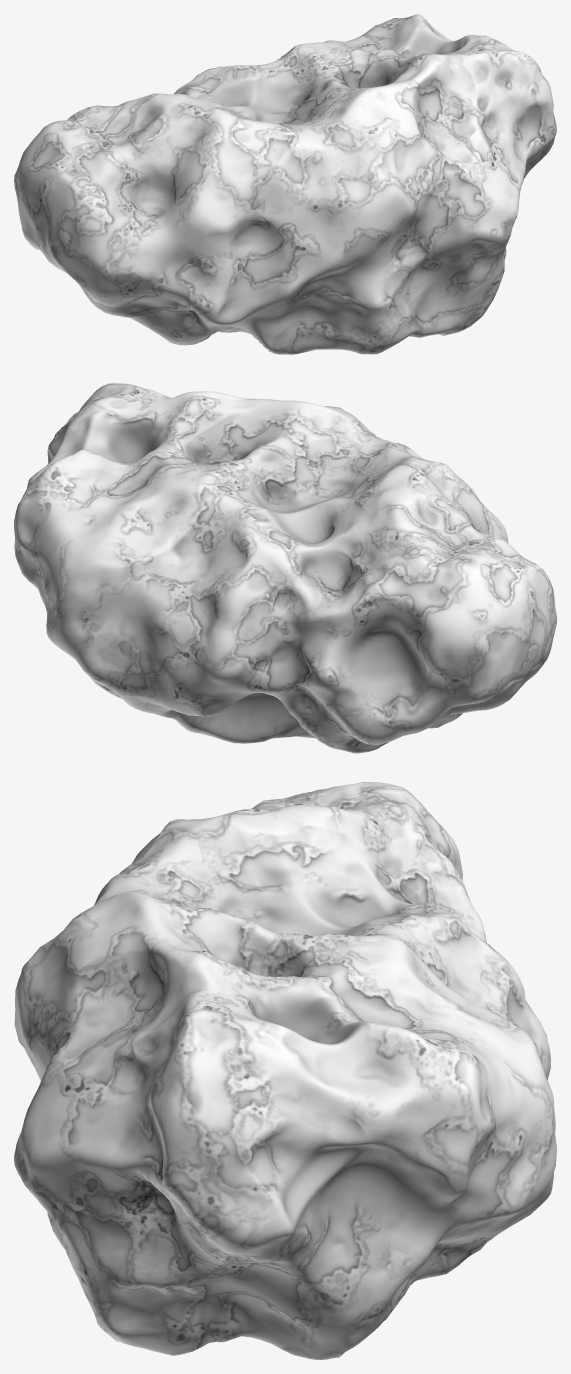
File: Asteroid_1e.glb
The picture shows the model from 3 angles, top to bottom: view 1: azimuth 30°, elevation 25°; view 2: azimuth 150°, elevation 25°; view 3: azimuth 270°, elevation 25°; orthographic projection. The views are drawn at different scales.
Visible parts, largest first — view 1: Asteroid_1e; view 2: Asteroid_1e; view 3: Asteroid_1e.
Boxes of the visible parts, bbox=[...] form: Asteroid_1e: bbox=[14, 14, 556, 354]; Asteroid_1e: bbox=[14, 383, 556, 753]; Asteroid_1e: bbox=[14, 782, 556, 1359].
Bounding box in the file's own units: 4.33 × 2.3 × 2.82.
Materials: 1 (1 with a texture image).
